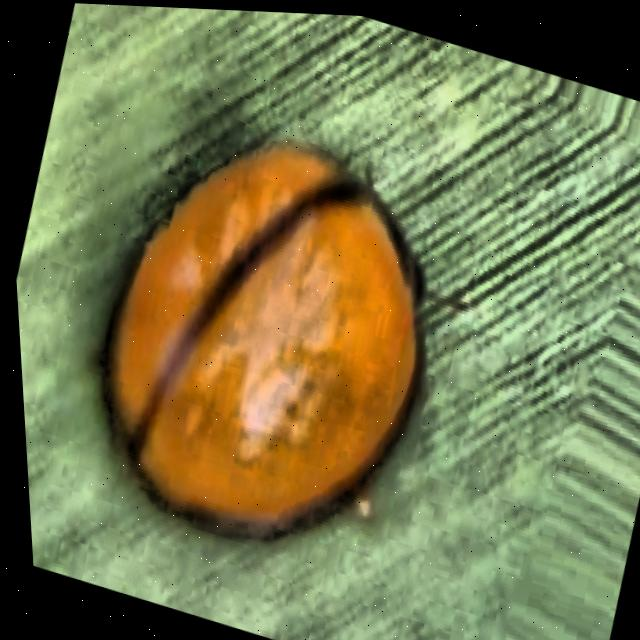Ladybug: (0, 0, 570, 640)
